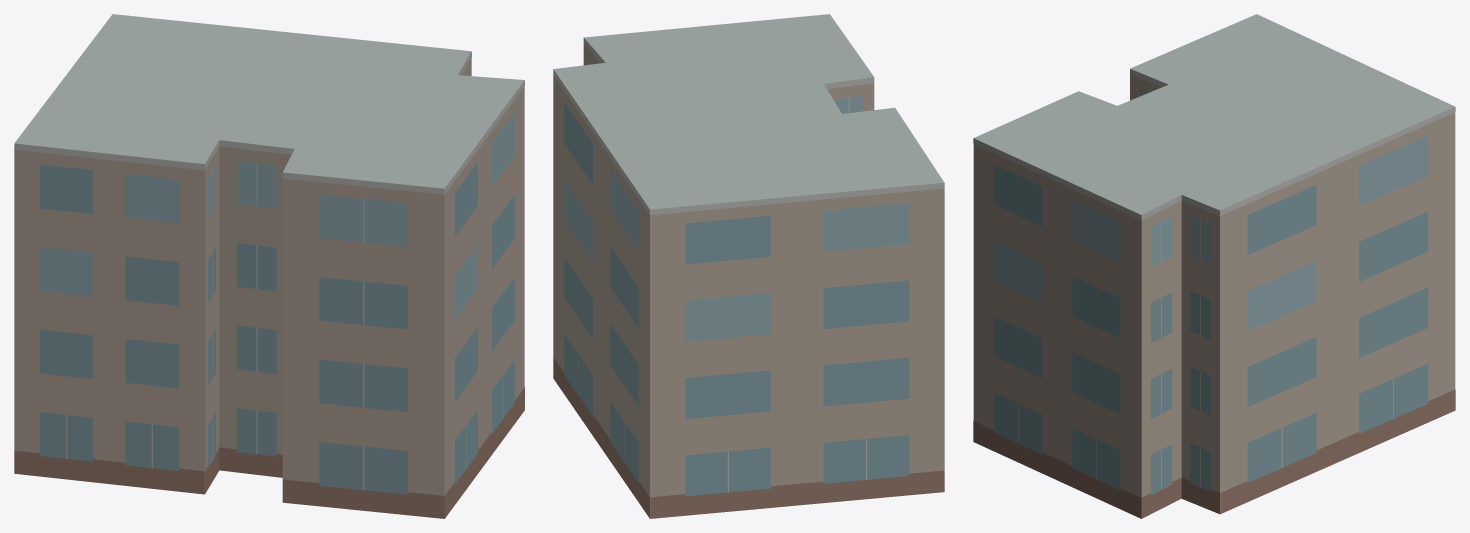
The model's file is survey-upis-33016828.glb.
3 renders of one model, left to right at view 1: azimuth 30°, elevation 25°; view 2: azimuth 150°, elevation 25°; view 3: azimuth 270°, elevation 25°, orthographic. The views are drawn at different scales.
Parts seen in each view (by area): view 1: survey-upis-33016828.tmp; view 2: survey-upis-33016828.tmp; view 3: survey-upis-33016828.tmp.
Boxes of the visible parts, x1=… form: survey-upis-33016828.tmp: x1=14, y1=14, x2=524, y2=518; survey-upis-33016828.tmp: x1=553, y1=14, x2=944, y2=518; survey-upis-33016828.tmp: x1=973, y1=14, x2=1455, y2=518.
Size of the model in its own units: 18.6 by 13.1 by 18.84.
